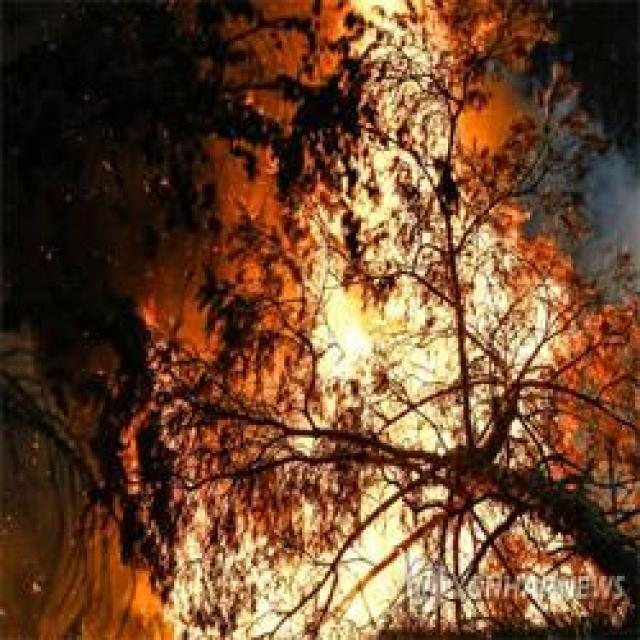Fire: (194, 519, 386, 640), (390, 269, 538, 424), (300, 280, 378, 408)
